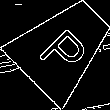P_NE: (33, 16, 95, 77)
